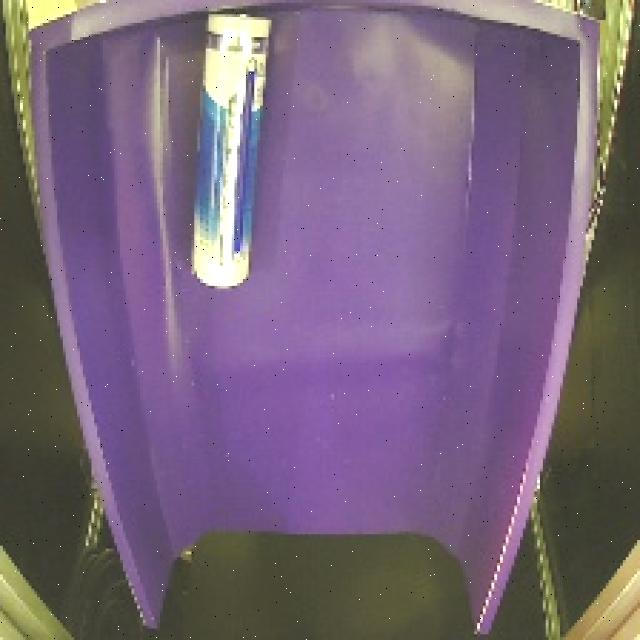battery: (174, 5, 284, 300)
